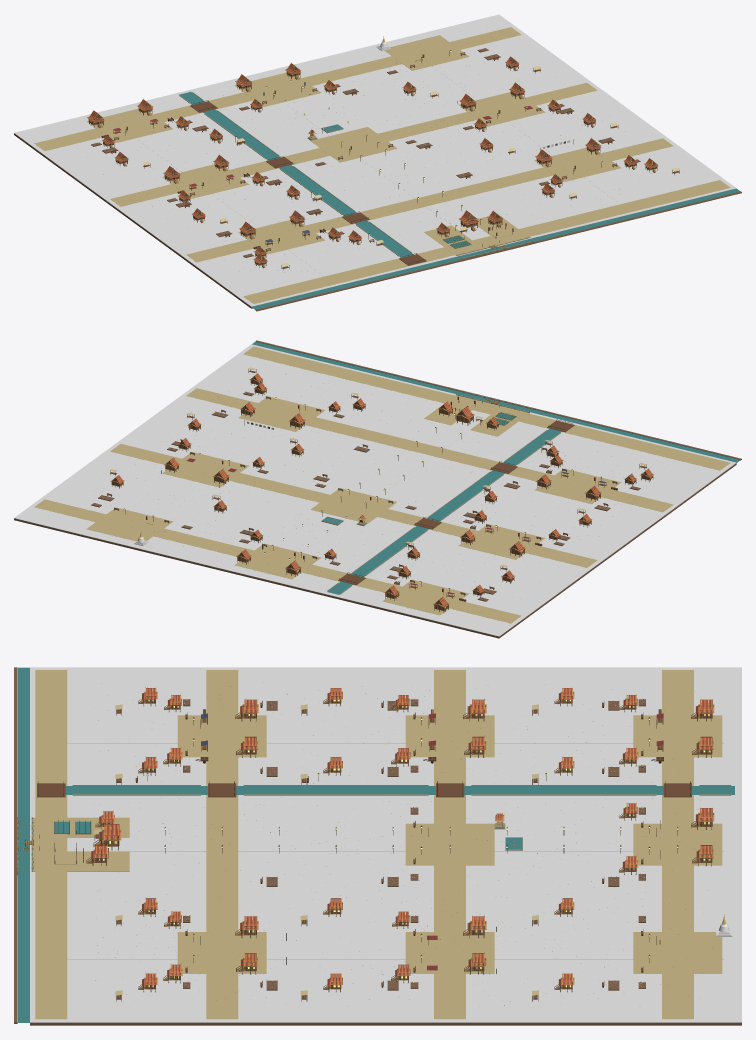
The model's file is suphan.glb.
3 renders of one model, top to bottom at view 1: azimuth 30°, elevation 25°; view 2: azimuth 150°, elevation 25°; view 3: azimuth 270°, elevation 25°, orthographic. The views are drawn at different scales.
Parts seen in each view (by area): view 1: Expanded ground · meadow, Regional avenues · sand, Regional avenues · paving, City canal · water, River extension · water, District square 4 · sand, District square 6 · sand, District square 7 · sand, District square 1 · sand, District square 3 · sand, District square 2 · sand, District square 0 · sand (+8 smaller); view 2: Expanded ground · meadow, Regional avenues · sand, Regional avenues · paving, City canal · water, Expanded ground · earth, River extension · water, District square 4 · sand, District square 6 · sand, District square 1 · sand, District square 7 · sand, District square 2 · sand, District square 5 · sand (+8 smaller); view 3: Expanded ground · meadow, Regional avenues · sand, Regional avenues · paving, City canal · water, District square 4 · sand, District square 6 · sand, River extension · water, District square 7 · sand, District square 1 · sand, District square 0 · sand, District square 5 · sand, District square 2 · sand (+8 smaller).
Part boxes in pixels (left/top/right/bottom): Expanded ground · meadow: left=14, top=14, right=736, bottom=306; Regional avenues · sand: left=34, top=27, right=730, bottom=303; Regional avenues · paving: left=105, top=39, right=638, bottom=276; City canal · water: left=179, top=92, right=413, bottom=257; River extension · water: left=251, top=188, right=739, bottom=309; District square 4 · sand: left=310, top=127, right=397, bottom=162; District square 6 · sand: left=385, top=35, right=469, bottom=70; District square 7 · sand: left=234, top=72, right=320, bottom=106; District square 1 · sand: left=534, top=147, right=620, bottom=181; District square 3 · sand: left=458, top=92, right=545, bottom=126; District square 2 · sand: left=162, top=164, right=249, bottom=198; District square 0 · sand: left=238, top=220, right=324, bottom=254; Expanded ground · meadow: left=14, top=344, right=736, bottom=636; Regional avenues · sand: left=34, top=346, right=730, bottom=623; Regional avenues · paving: left=105, top=374, right=638, bottom=610; City canal · water: left=327, top=428, right=561, bottom=594; Expanded ground · earth: left=14, top=463, right=736, bottom=638; River extension · water: left=252, top=341, right=740, bottom=463; District square 4 · sand: left=311, top=488, right=396, bottom=523; District square 6 · sand: left=86, top=507, right=173, bottom=541; District square 1 · sand: left=238, top=396, right=325, bottom=431; District square 7 · sand: left=234, top=543, right=321, bottom=579; District square 2 · sand: left=458, top=524, right=545, bottom=559; District square 5 · sand: left=382, top=579, right=469, bottom=615; Expanded ground · meadow: left=30, top=667, right=741, bottom=1022; Regional avenues · sand: left=35, top=670, right=693, bottom=1019; Regional avenues · paving: left=67, top=729, right=724, bottom=959; City canal · water: left=65, top=786, right=734, bottom=794; District square 4 · sand: left=405, top=823, right=494, bottom=865; District square 6 · sand: left=633, top=932, right=722, bottom=973; River extension · water: left=18, top=667, right=31, bottom=1022; District square 7 · sand: left=633, top=823, right=722, bottom=865; District square 1 · sand: left=177, top=932, right=266, bottom=973; District square 0 · sand: left=177, top=715, right=266, bottom=757; District square 5 · sand: left=633, top=715, right=722, bottom=757; District square 2 · sand: left=405, top=715, right=494, bottom=757.
Bounding box in the file's own units: 236 × 8.41 × 204.
